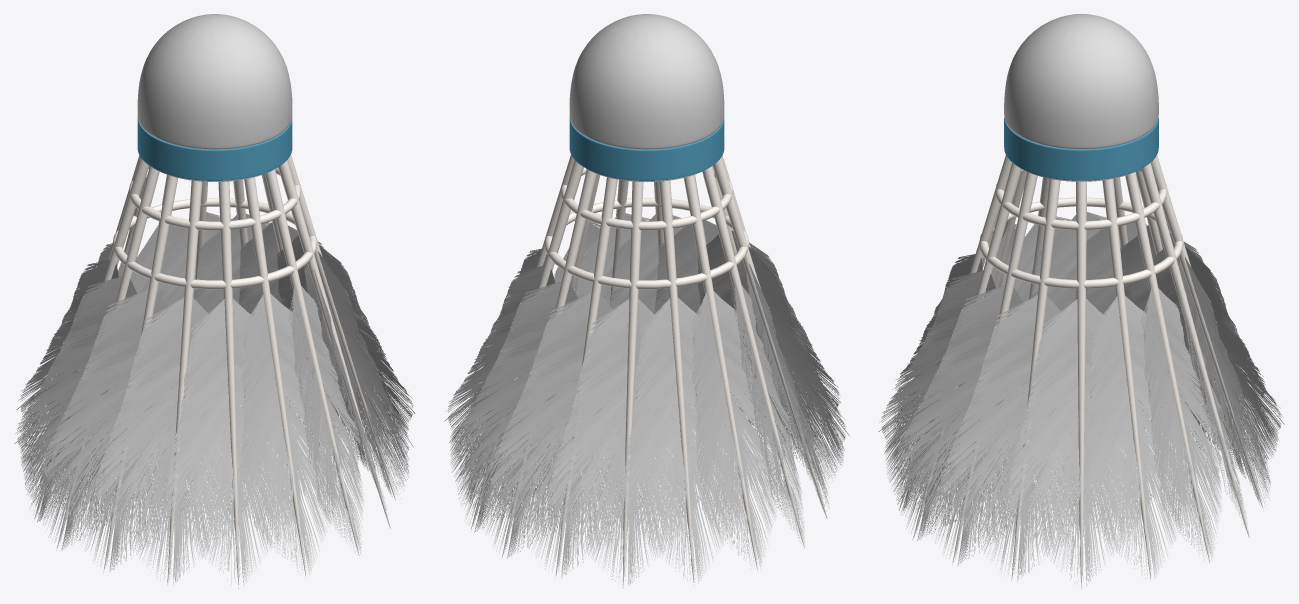
Rendered from kyle1003-shuttlecock.glb.
The picture shows the model from 3 angles, left to right: view 1: azimuth 30°, elevation 25°; view 2: azimuth 150°, elevation 25°; view 3: azimuth 270°, elevation 25°; orthographic projection.
Visible parts, largest first — view 1: Kyle1003_Object_2, Kyle1003_Object_1, Kyle1003_Object_11, Kyle1003_Object_19, Kyle1003_Object_18, Kyle1003_Object_10, Kyle1003_Object_20, Kyle1003_Object_15, Kyle1003_Object_12, Kyle1003_Object_14, Kyle1003_Object_16, Kyle1003_Object_5 (+12 smaller); view 2: Kyle1003_Object_2, Kyle1003_Object_25, Kyle1003_Object_1, Kyle1003_Object_24, Kyle1003_Object_22, Kyle1003_Object_21, Kyle1003_Object_26, Kyle1003_Object_17, Kyle1003_Object_23, Kyle1003_Object_18, Kyle1003_Object_16, Kyle1003_Object_19 (+13 smaller); view 3: Kyle1003_Object_2, Kyle1003_Object_5, Kyle1003_Object_1, Kyle1003_Object_8, Kyle1003_Object_4, Kyle1003_Object_6, Kyle1003_Object_9, Kyle1003_Object_13, Kyle1003_Object_7, Kyle1003_Object_14, Kyle1003_Object_12, Kyle1003_Object_21 (+14 smaller).
Part boxes in pixels (x1,y1,x2,y2): Kyle1003_Object_2: (34, 155, 395, 584); Kyle1003_Object_1: (137, 14, 292, 181); Kyle1003_Object_11: (166, 298, 331, 588); Kyle1003_Object_19: (43, 290, 252, 582); Kyle1003_Object_18: (20, 260, 248, 585); Kyle1003_Object_10: (241, 293, 337, 576); Kyle1003_Object_20: (43, 289, 195, 572); Kyle1003_Object_15: (15, 276, 363, 552); Kyle1003_Object_12: (166, 269, 386, 585); Kyle1003_Object_14: (288, 285, 363, 555); Kyle1003_Object_16: (14, 260, 144, 550); Kyle1003_Object_5: (277, 235, 413, 499); Kyle1003_Object_2: (466, 155, 827, 584); Kyle1003_Object_25: (549, 298, 748, 587); Kyle1003_Object_1: (569, 14, 724, 181); Kyle1003_Object_24: (623, 298, 750, 585); Kyle1003_Object_22: (454, 281, 643, 577); Kyle1003_Object_21: (490, 278, 784, 577); Kyle1003_Object_26: (550, 299, 703, 588); Kyle1003_Object_17: (690, 291, 780, 571); Kyle1003_Object_23: (453, 281, 741, 582); Kyle1003_Object_18: (692, 247, 848, 566); Kyle1003_Object_16: (690, 279, 805, 566); Kyle1003_Object_19: (730, 247, 849, 511); Kyle1003_Object_2: (900, 155, 1262, 585); Kyle1003_Object_5: (942, 295, 1155, 585); Kyle1003_Object_1: (1004, 14, 1158, 181); Kyle1003_Object_8: (1083, 287, 1221, 581); Kyle1003_Object_4: (1008, 299, 1154, 589); Kyle1003_Object_6: (942, 289, 1221, 581); Kyle1003_Object_9: (893, 254, 1197, 578); Kyle1003_Object_13: (897, 274, 1039, 566); Kyle1003_Object_7: (1141, 288, 1221, 563); Kyle1003_Object_14: (878, 270, 995, 540); Kyle1003_Object_12: (898, 258, 1039, 563); Kyle1003_Object_21: (1002, 232, 1272, 509).
Size of the model in its own units: 0.7481 by 1 by 0.7481.
